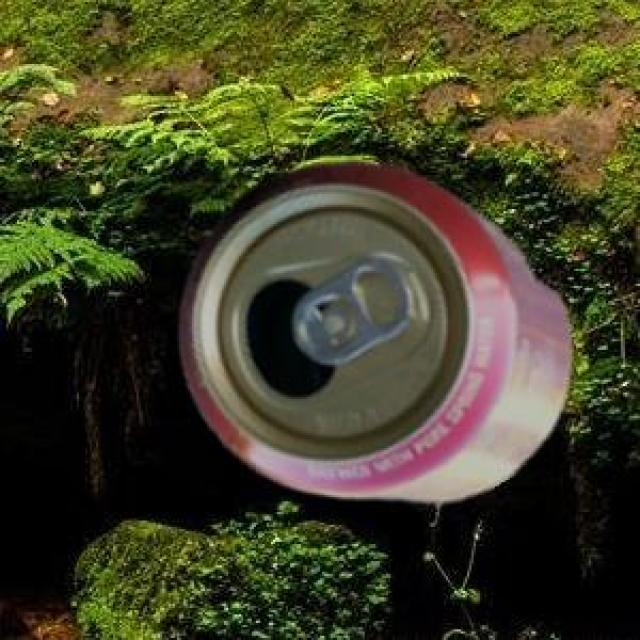logam: (178, 159, 569, 498)
